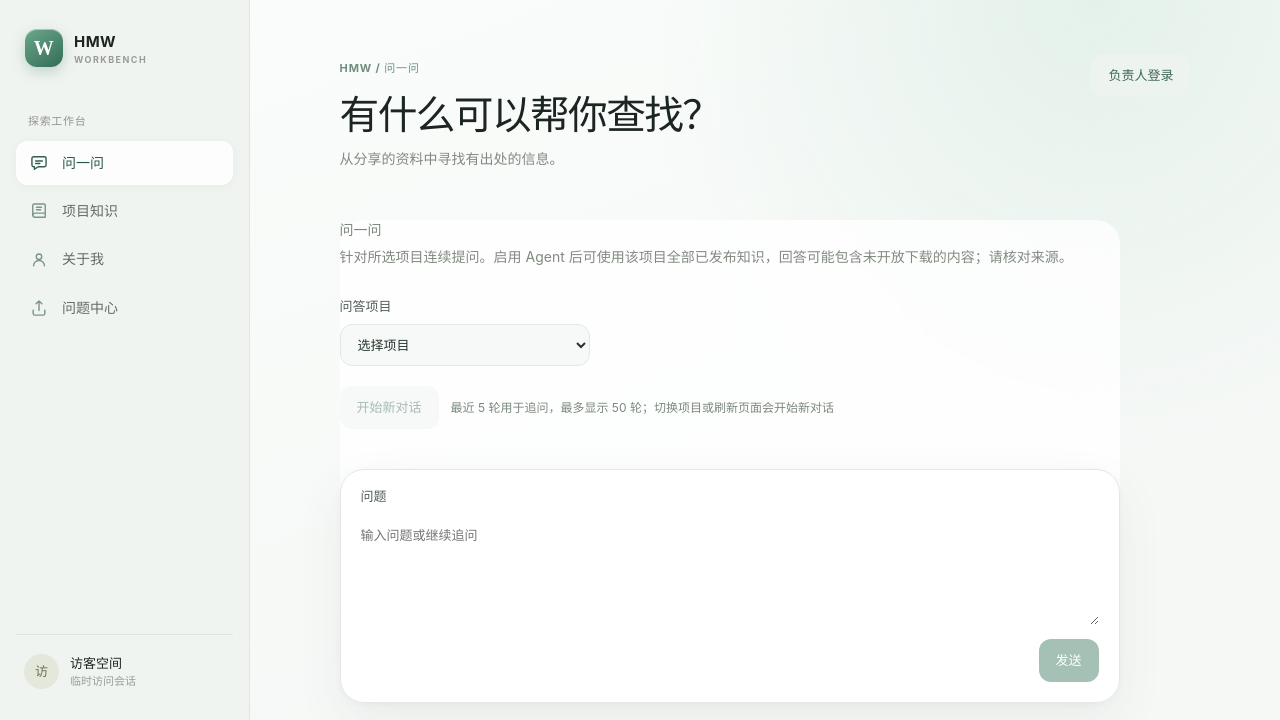
Scenario: opens the guest workspace by default and keeps owner login separate
The image size is (1280, 720).
Expected: the field labelled "密码" is not shown
Click the button "负责人登录".
click(1141, 75)  # box [1091,54,1190,97]
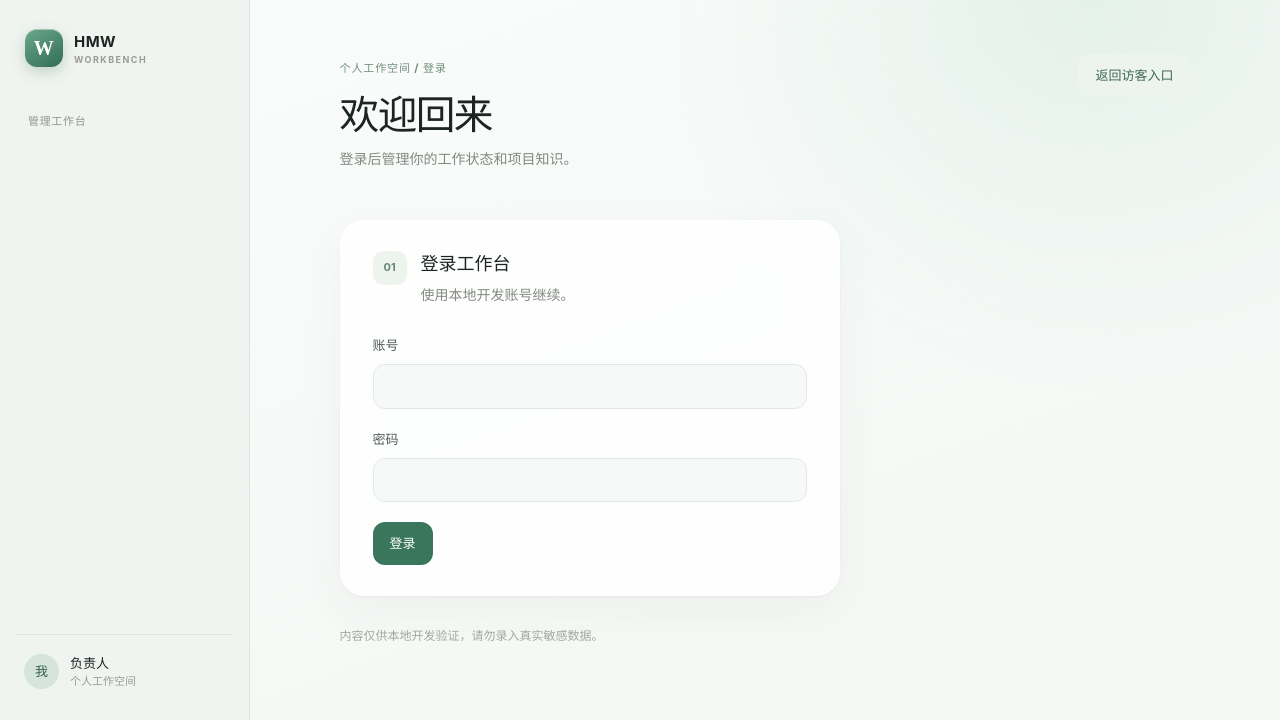
Now the password field labelled "密码" is shown, box [373,458,807,502]
